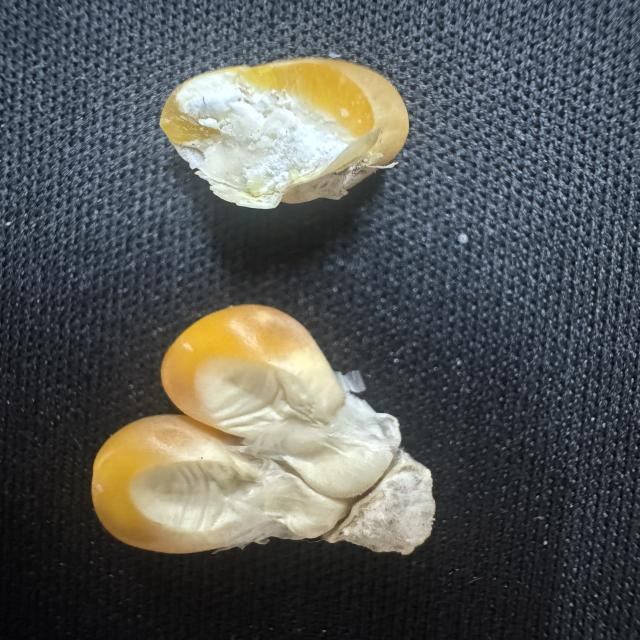Bad-Seed: (72, 300, 443, 572), (144, 52, 416, 214)
